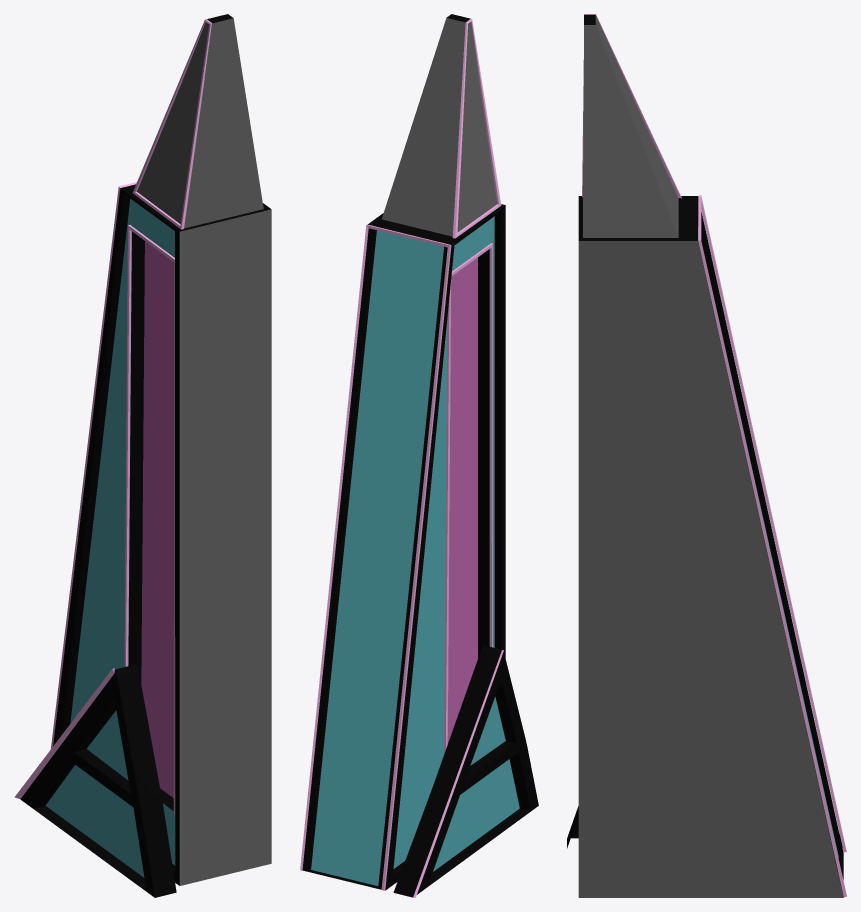
The model's file is SM_Environment_Buildings_Mid_02.fbx.
3 views of the same model, side by side, from view 1: azimuth 30°, elevation 25°; view 2: azimuth 150°, elevation 25°; view 3: azimuth 270°, elevation 25° (orthographic). The views are drawn at different scales.
Parts seen in each view (by area): view 1: SM_Environment_Buildings_Mid_02, Lights; view 2: SM_Environment_Buildings_Mid_02, Lights; view 3: SM_Environment_Buildings_Mid_02, Lights.
Part boxes in pixels (x1=…): SM_Environment_Buildings_Mid_02: x1=20, y1=14, x2=271, y2=897; Lights: x1=14, y1=19, x2=211, y2=815; SM_Environment_Buildings_Mid_02: x1=302, y1=14, x2=538, y2=897; Lights: x1=300, y1=19, x2=503, y2=897; SM_Environment_Buildings_Mid_02: x1=567, y1=14, x2=843, y2=897; Lights: x1=582, y1=14, x2=846, y2=897.
Size of the model in its own units: 8.18 by 53.2 by 15.76.
